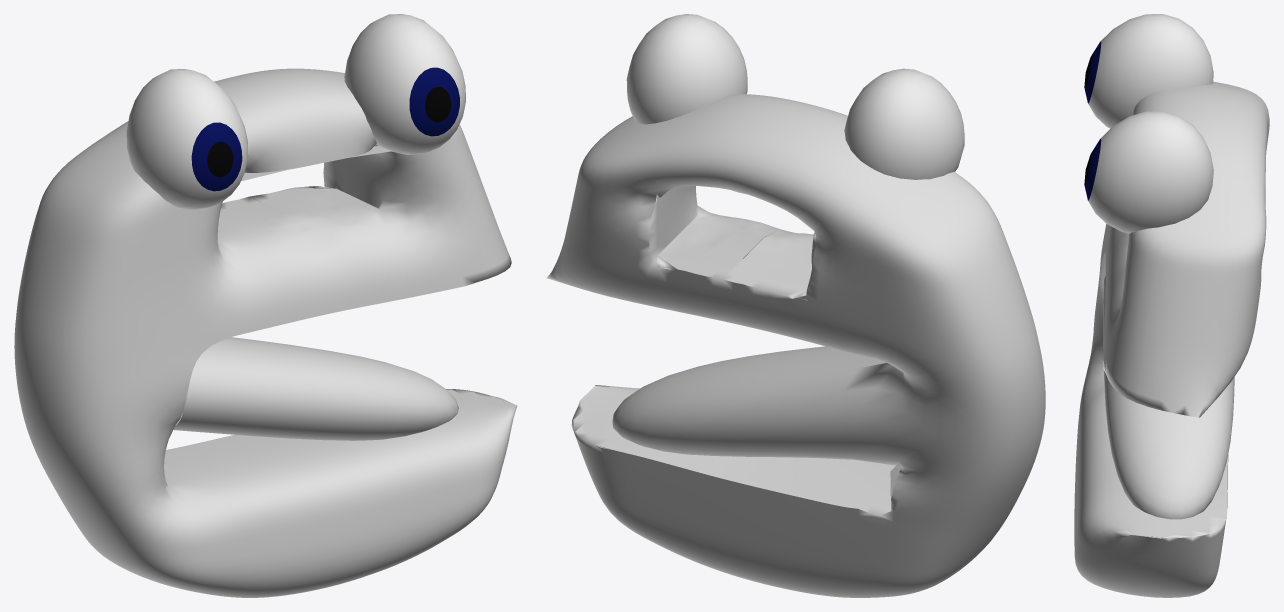
The model's file is huruf e.FBX.
The picture shows the model from 3 angles, left to right: view 1: azimuth 30°, elevation 25°; view 2: azimuth 150°, elevation 25°; view 3: azimuth 270°, elevation 25°; orthographic projection. The views are drawn at different scales.
Visible parts, largest first — view 1: Box001, Sphere001, Sphere002; view 2: Box001, Sphere001, Sphere002; view 3: Box001, Sphere002, Sphere001.
Boxes of the visible parts, x1,y1,x2,y2 form: Box001: (14,68,517,597); Sphere001: (126,69,248,209); Sphere002: (344,14,465,154); Box001: (546,94,1045,597); Sphere001: (844,68,964,179); Sphere002: (626,14,747,124); Box001: (1074,81,1269,597); Sphere002: (1084,111,1213,233); Sphere001: (1084,14,1213,128).
Bounding box in the file's own units: 18.94 × 20.28 × 7.23.
